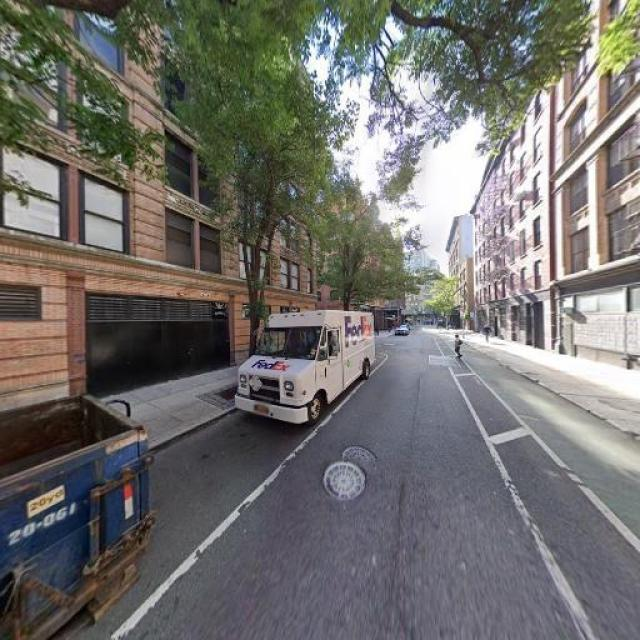Building: (1, 1, 315, 424), (559, 1, 640, 374), (477, 19, 553, 353)
